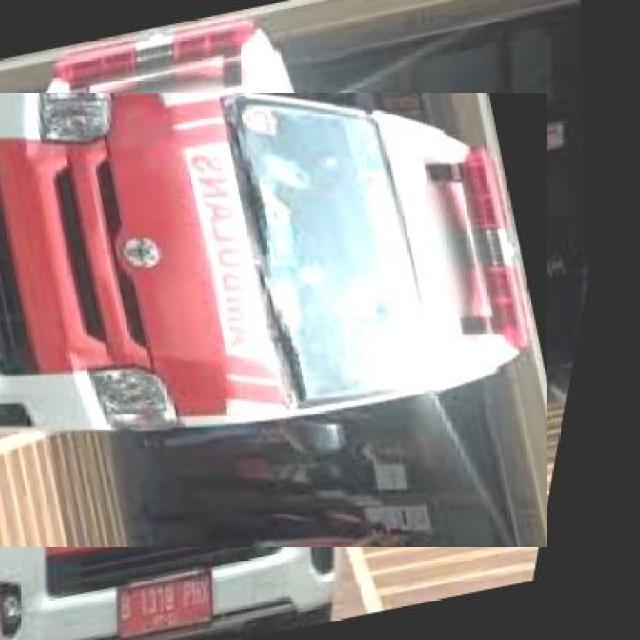emergency-vehicle: (0, 46, 500, 593)
